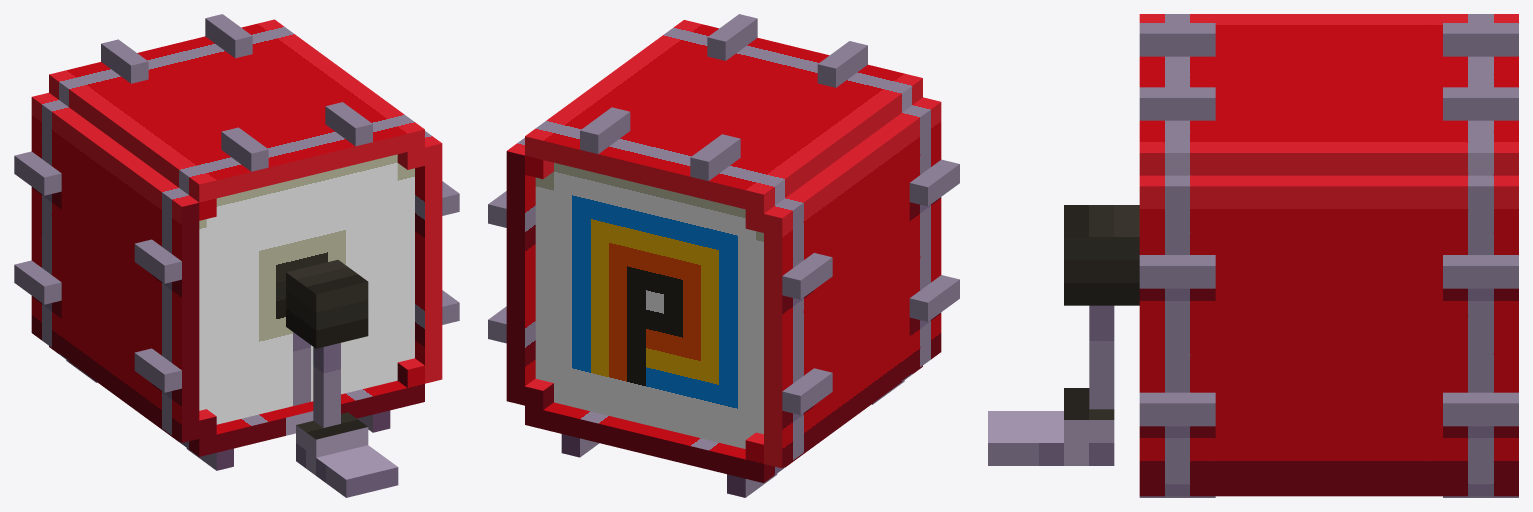
Rendered from int_base_drumao.fezao.glb.
3 views of the same model, side by side, from view 1: azimuth 30°, elevation 25°; view 2: azimuth 150°, elevation 25°; view 3: azimuth 270°, elevation 25° (orthographic). The views are drawn at different scales.
Visible parts, largest first — view 1: INT_BASE_DRUMAO; view 2: INT_BASE_DRUMAO; view 3: INT_BASE_DRUMAO.
Boxes of the visible parts, x1,y1,x2,y2 form: INT_BASE_DRUMAO: (14, 14, 459, 497); INT_BASE_DRUMAO: (488, 14, 959, 497); INT_BASE_DRUMAO: (988, 14, 1518, 497).
Bounding box in the file's own units: 1.06 × 1.06 × 1.31.
1 material, 1 textured.
